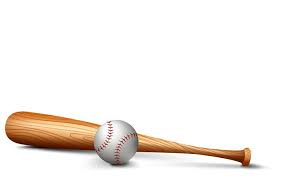baseball bat: (4, 110, 251, 168)
